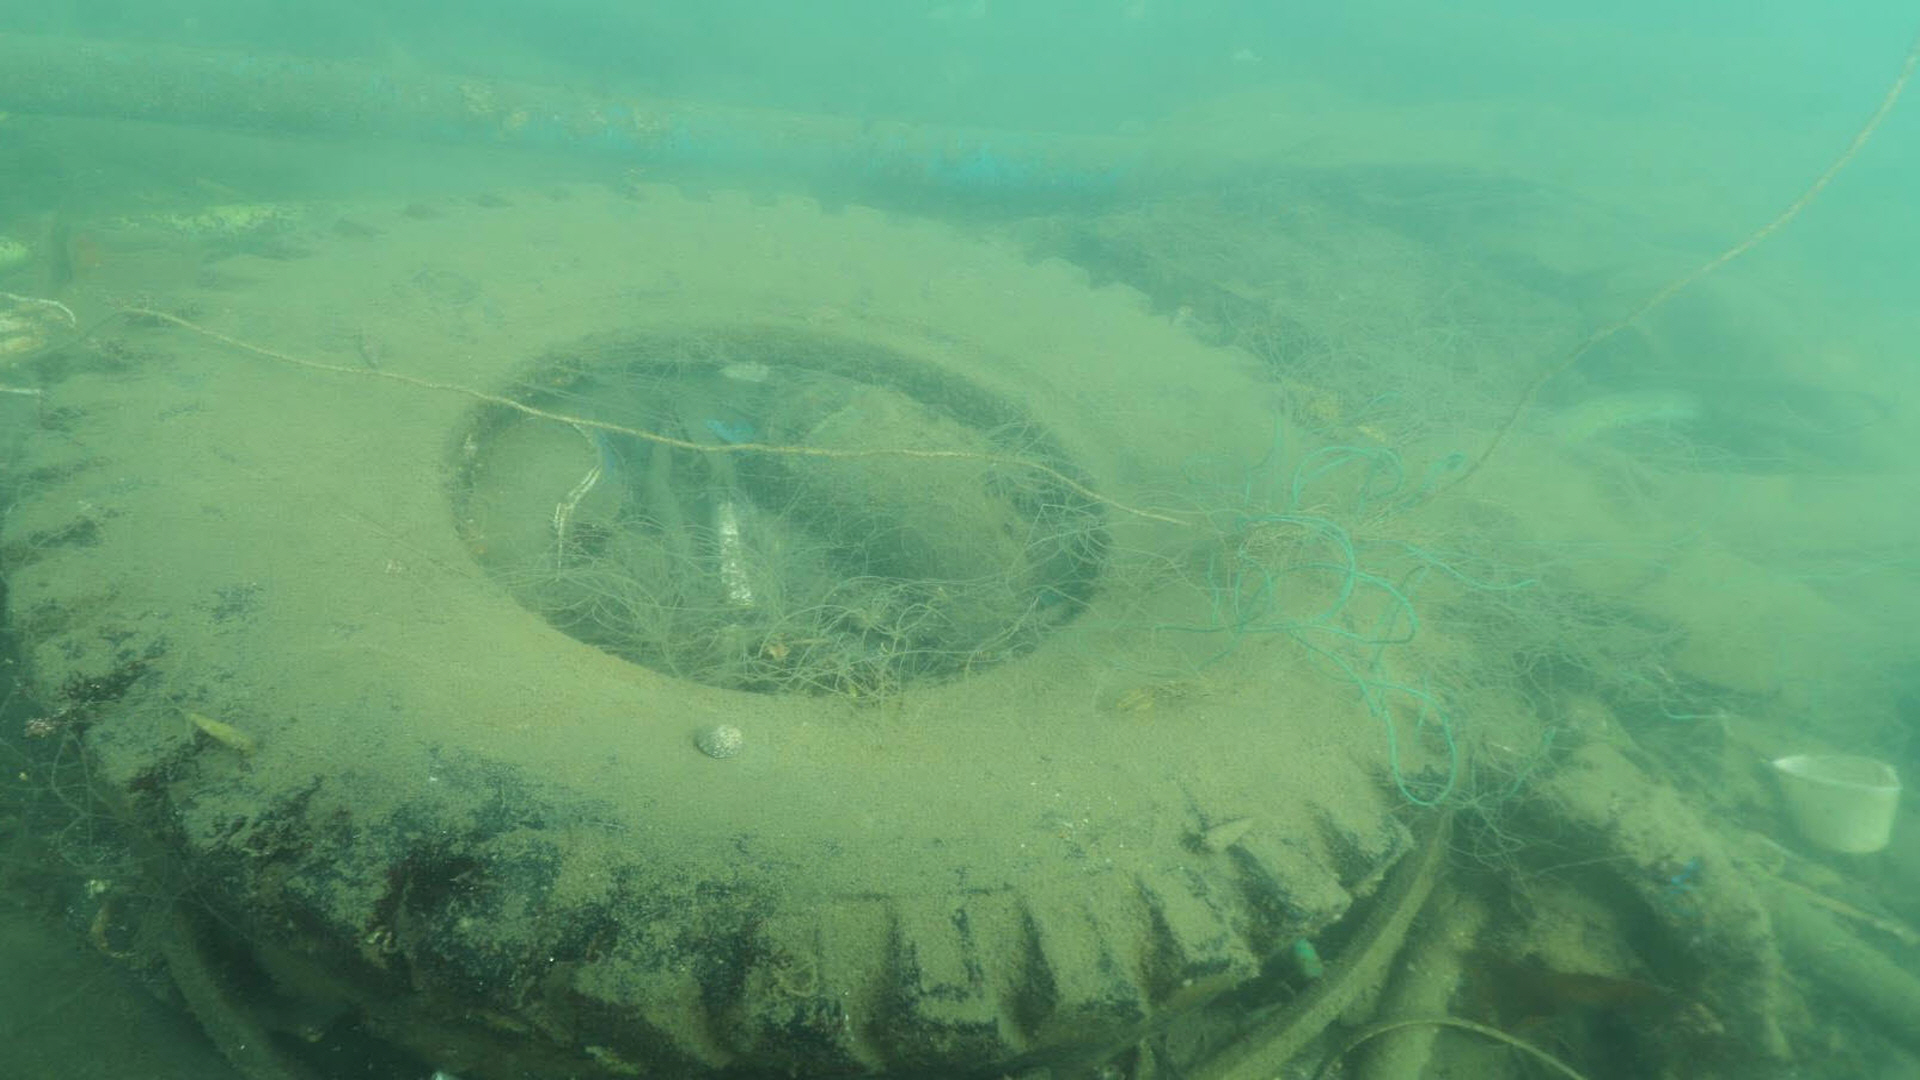tire: (0, 185, 1423, 1080)
